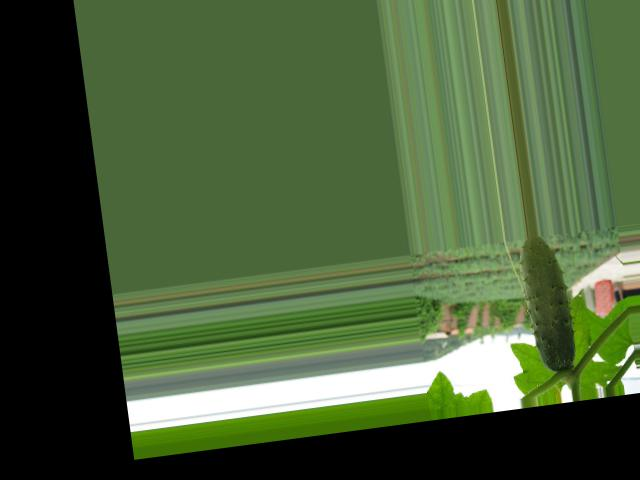cucumber: (516, 232, 578, 374)
